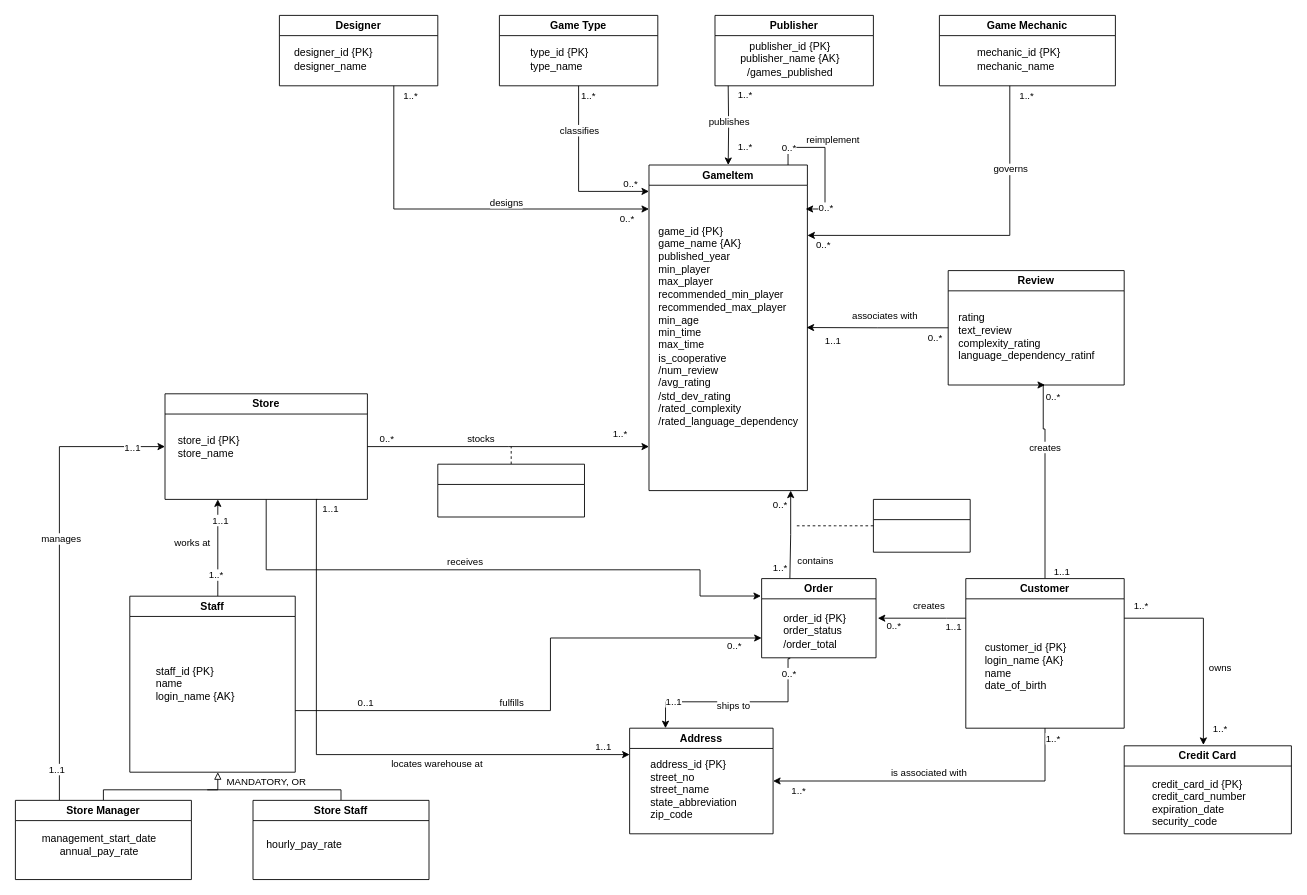
The diagram is 1307 pixels wide and 895 high, and some of its shapes have lost their labels. Each missing label, with the centre of its shape:
num_inventory: (510,490)
quantity: (921,525)
